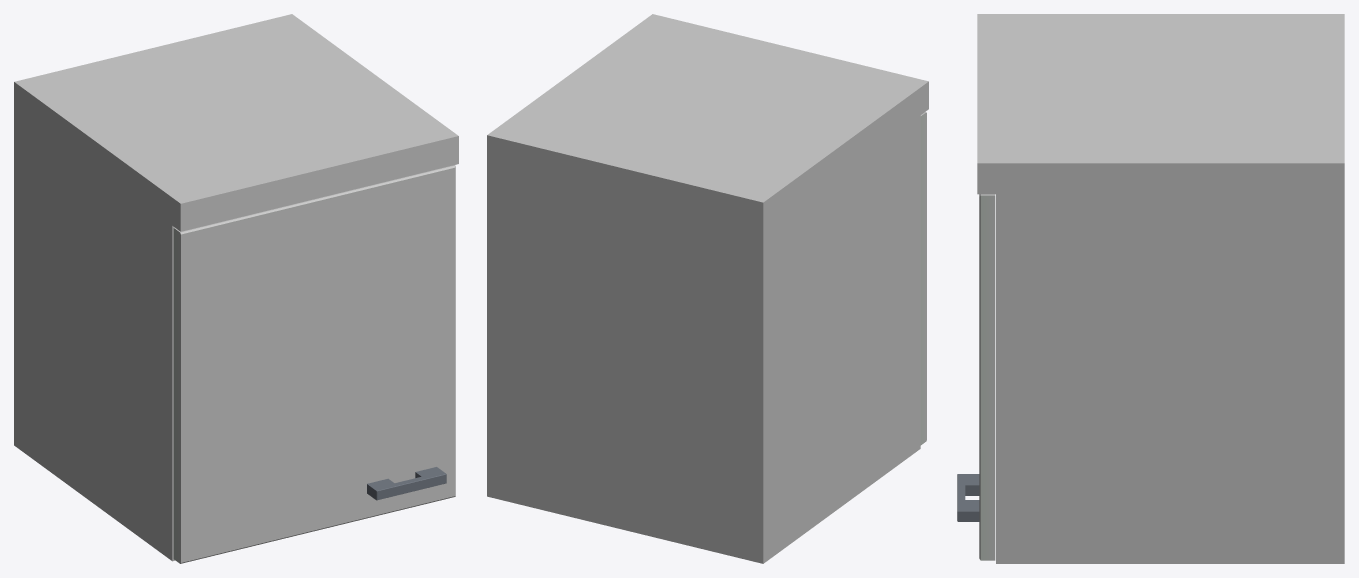
The model's file is topkaappikapea_GJ22.fbx.
3 views of the same model, side by side, from view 1: azimuth 30°, elevation 25°; view 2: azimuth 150°, elevation 25°; view 3: azimuth 270°, elevation 25° (orthographic). The views are drawn at different scales.
Parts seen in each view (by area): view 1: Kaappi, Ovi; view 2: Kaappi, Ovi; view 3: Kaappi, Ovi.
Boxes of the visible parts, <box> form: Kaappi: <box>14,14,458,561</box>; Ovi: <box>173,165,455,563</box>; Kaappi: <box>487,14,928,563</box>; Ovi: <box>920,112,926,445</box>; Kaappi: <box>977,14,1344,563</box>; Ovi: <box>957,194,995,560</box>.
Bounding box in the file's own units: 80 × 100 × 87.57.
